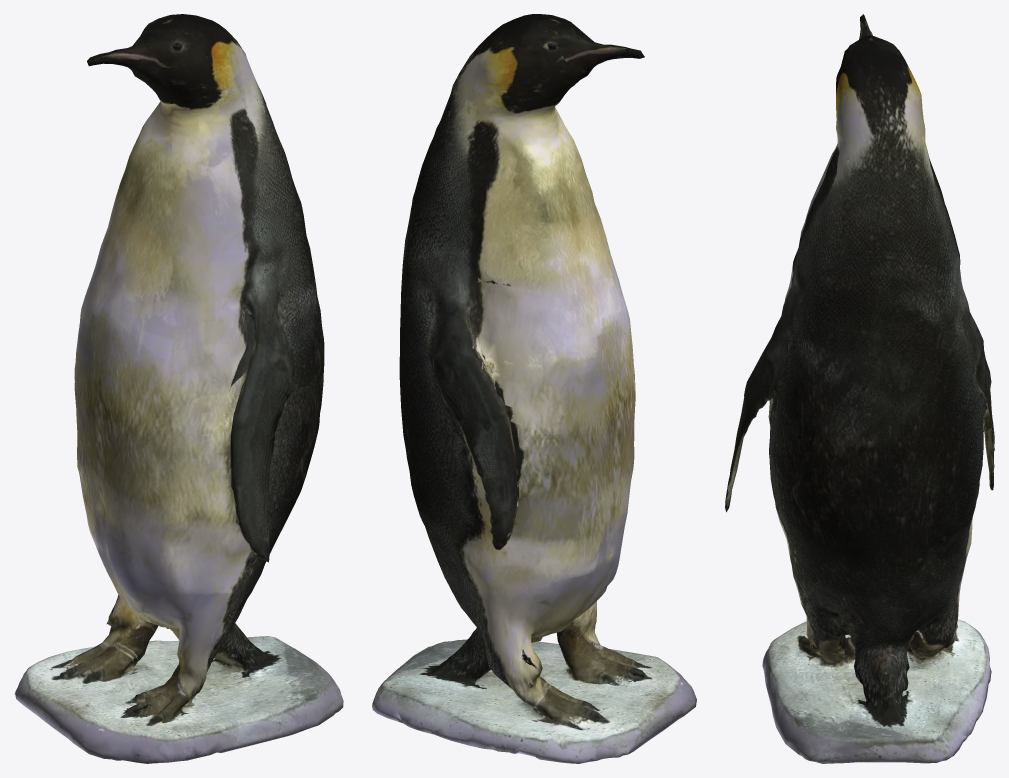
File: sv_penguin.glb
3 renders of one model, left to right at view 1: azimuth 30°, elevation 25°; view 2: azimuth 150°, elevation 25°; view 3: azimuth 270°, elevation 25°, orthographic. The views are drawn at different scales.
Parts seen in each view (by area): view 1: sv_penguin; view 2: sv_penguin; view 3: sv_penguin.
Part boxes in pixels (left/top/right/bottom): sv_penguin: left=14, top=14, right=343, bottom=763; sv_penguin: left=372, top=14, right=696, bottom=763; sv_penguin: left=725, top=14, right=994, bottom=763.
Size of the model in its own units: 0.3688 by 0.9375 by 0.3483.
Materials: 1 (1 with a texture image).
